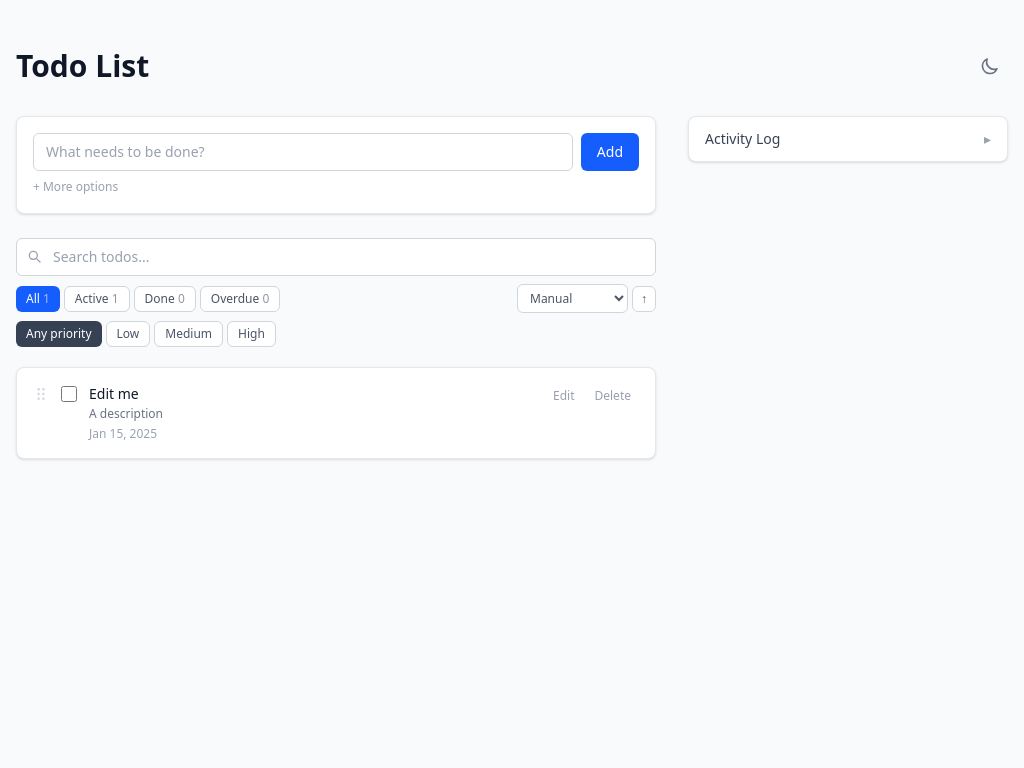
App › cancels edit mode
Step 1. Click the button "Edit" → (564, 396), box [545,384,582,408]
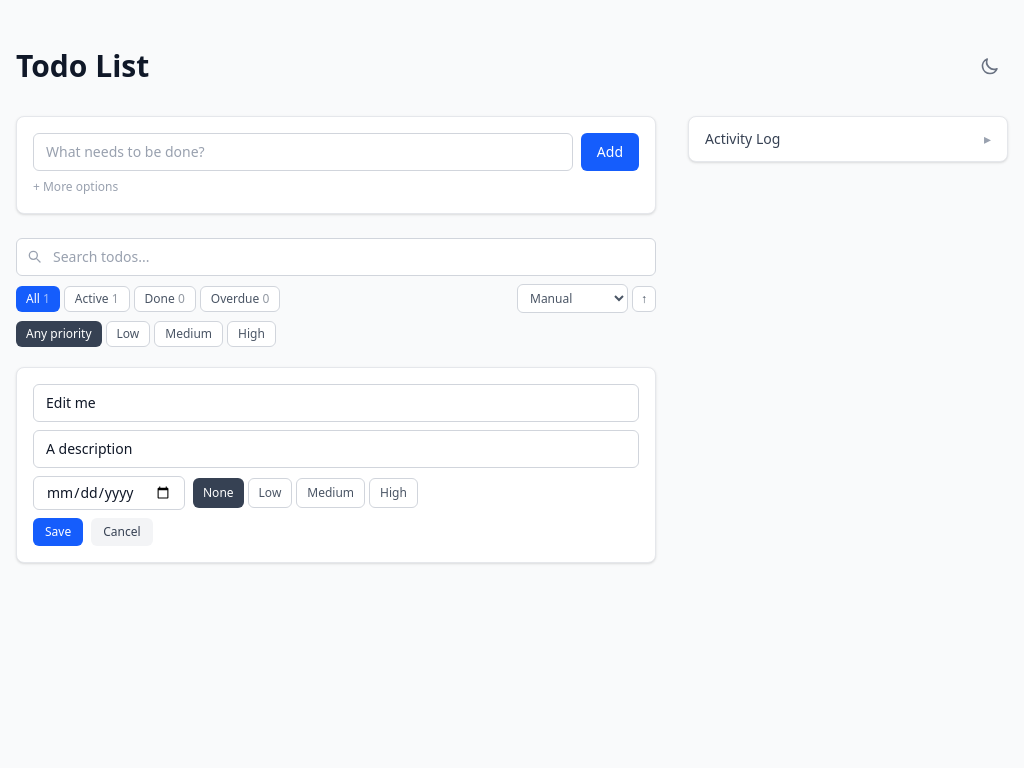
Step 2. Click the button "Cancel" → (122, 532), box [91,518,153,546]
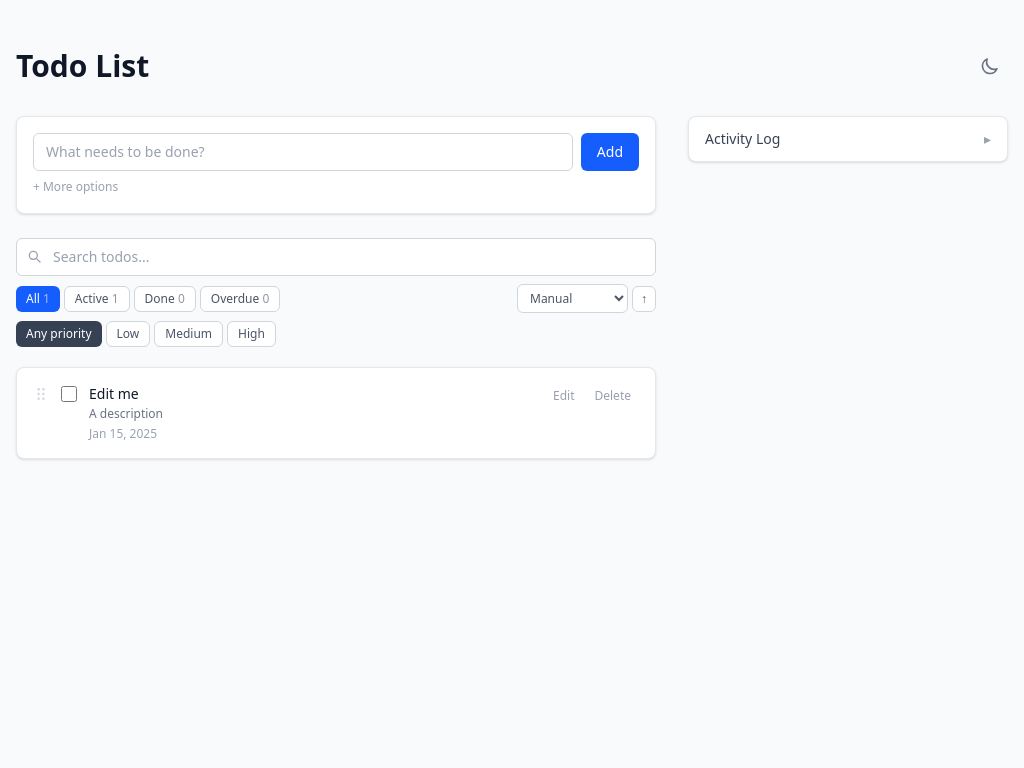
Expected: the text "Save" is gone
Expected: the text "Edit" is shown, [89,384,139,403]
